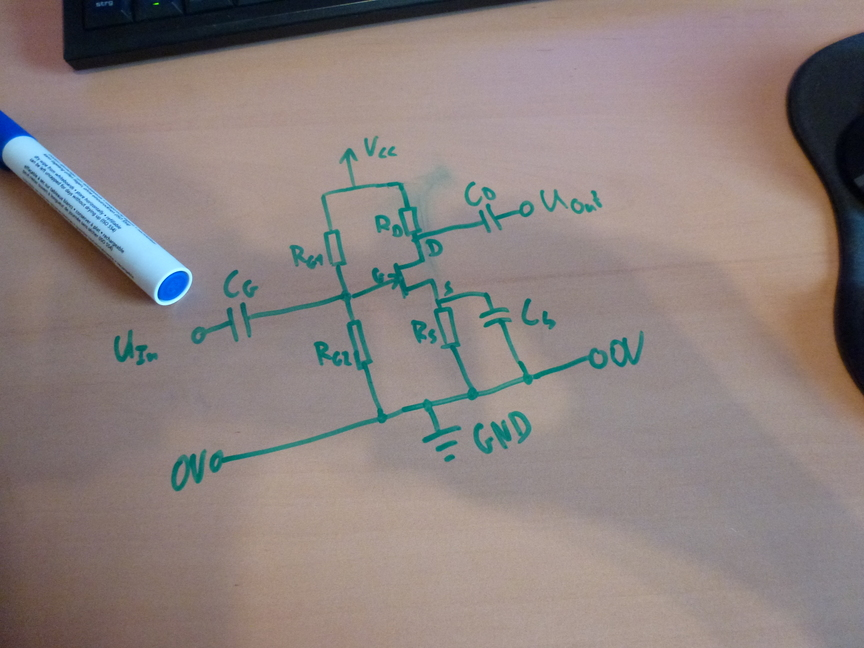capacitor.unpolarized: (224, 301, 257, 342), (478, 203, 504, 234), (479, 306, 512, 329)
gnd: (421, 422, 462, 464)
junction: (338, 288, 355, 305), (465, 387, 481, 402), (421, 397, 436, 412), (375, 410, 389, 425), (521, 372, 535, 386), (394, 179, 406, 189), (481, 288, 491, 300), (349, 182, 360, 192), (433, 296, 444, 306), (411, 234, 421, 244), (319, 191, 330, 200)
resistor: (346, 317, 375, 372), (434, 306, 461, 350), (324, 229, 347, 268), (398, 206, 421, 236)
terminal: (586, 345, 609, 370), (209, 449, 227, 474), (190, 325, 208, 346), (518, 199, 535, 219)
text: (472, 410, 532, 455), (112, 328, 160, 366), (539, 188, 603, 214), (169, 448, 206, 492), (609, 329, 645, 367), (520, 297, 556, 330), (312, 340, 352, 368), (222, 269, 259, 299), (288, 243, 324, 270), (464, 181, 497, 207), (363, 135, 398, 159), (373, 213, 405, 238), (410, 319, 437, 344), (425, 237, 444, 257), (370, 266, 386, 284), (442, 280, 455, 296)
transistor: (387, 257, 432, 298)
vss: (338, 147, 359, 166)
